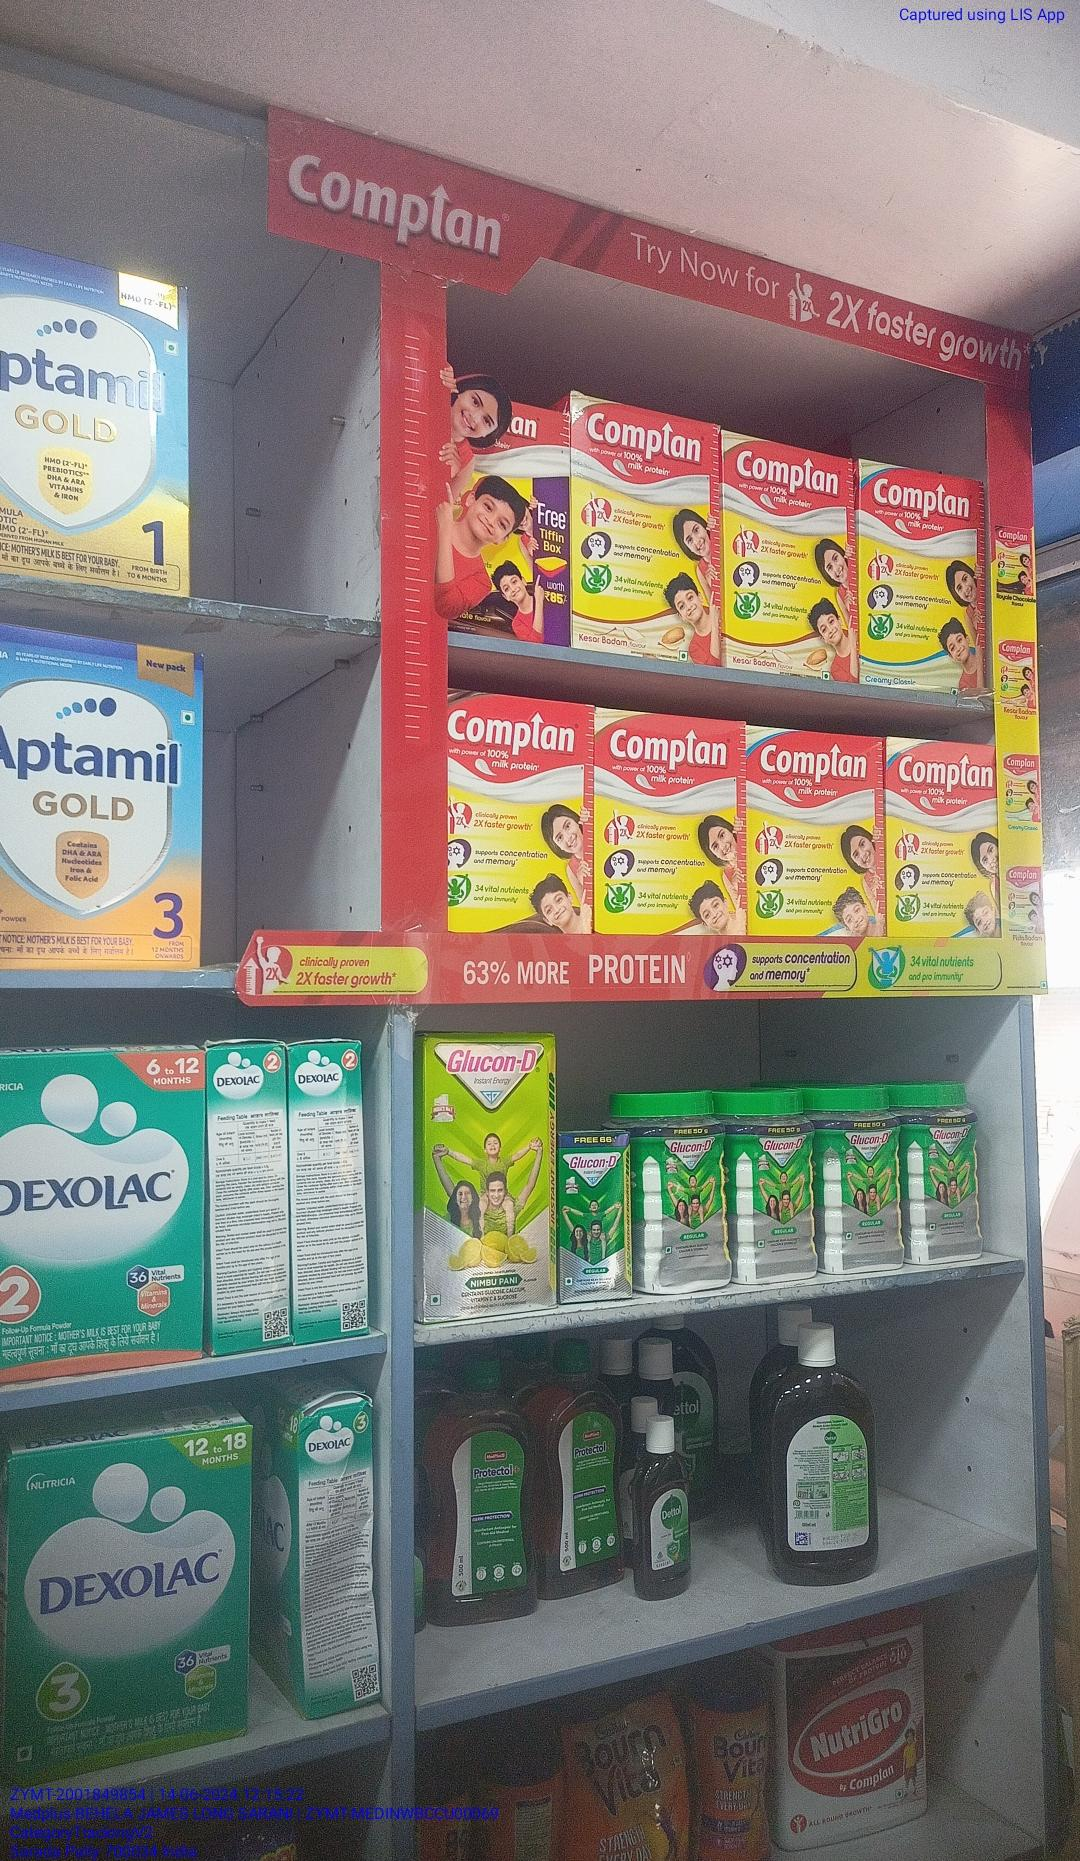COMPLAN_CHOCOLATE_500_GMS_PACK: (447, 690, 593, 933)
COMPLAN_CREAMY_CLASSIC_500_G_PACK: (864, 459, 987, 693), (750, 726, 882, 939), (888, 740, 1002, 933)
COMPLAN_KESAR_BADAM_500_GMS_PACK: (572, 402, 716, 661), (723, 433, 858, 679), (598, 709, 743, 929)
